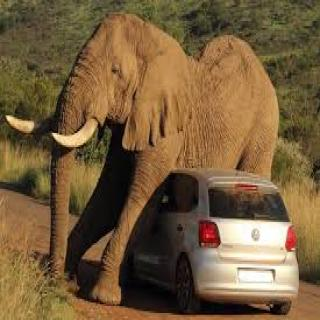Elephant: (5, 9, 292, 306)
